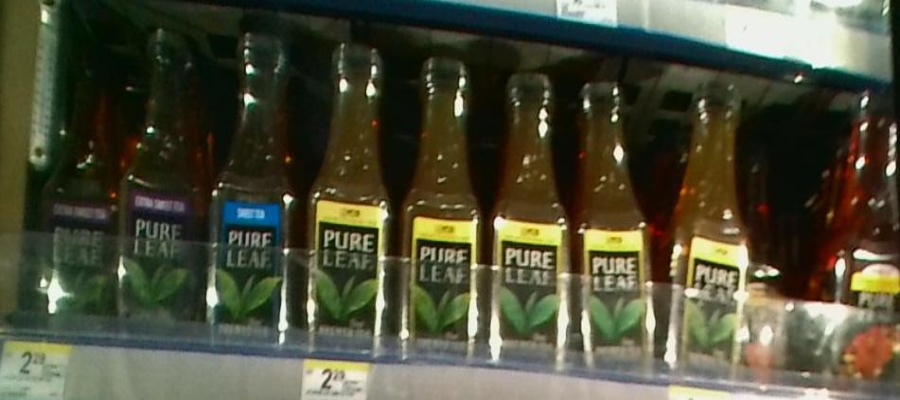bottle: (203, 24, 301, 352), (302, 36, 397, 353), (403, 48, 490, 360), (666, 69, 750, 378), (491, 57, 574, 367), (122, 29, 202, 342), (39, 54, 121, 346), (578, 71, 657, 369), (833, 83, 900, 395)
